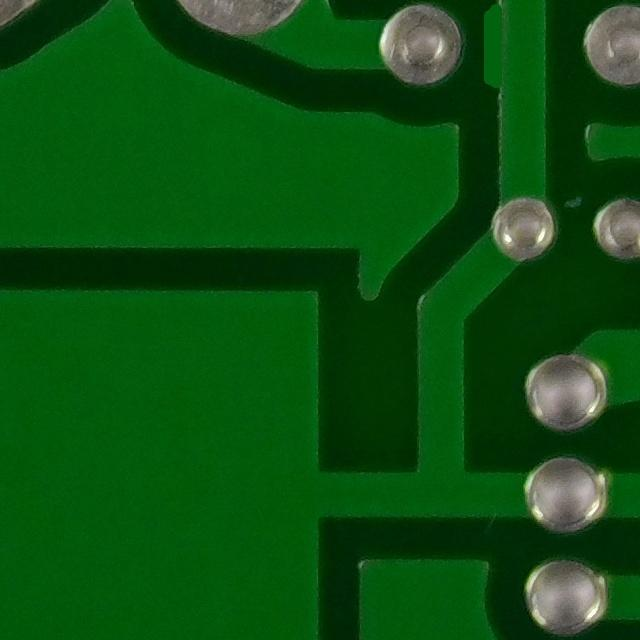spur: (464, 0, 544, 94)
